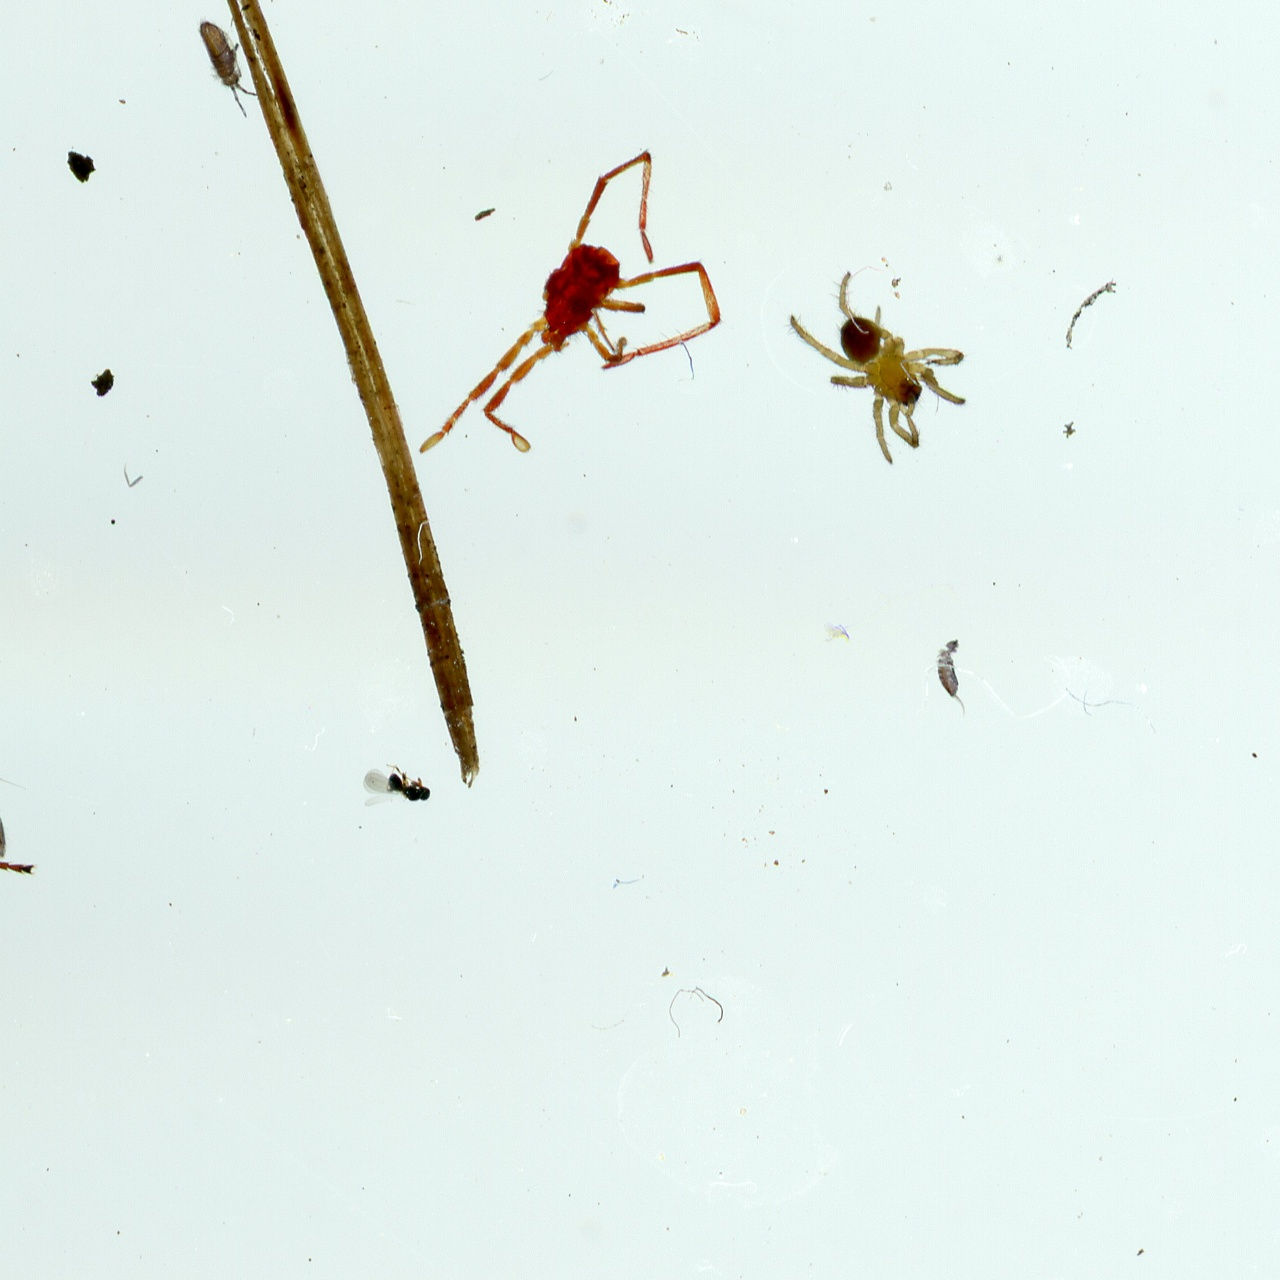arthropod: (382, 127, 785, 557), (0, 444, 103, 1152), (767, 235, 1002, 477), (180, 0, 274, 128), (354, 759, 443, 828), (922, 631, 986, 724), (0, 692, 33, 816)
